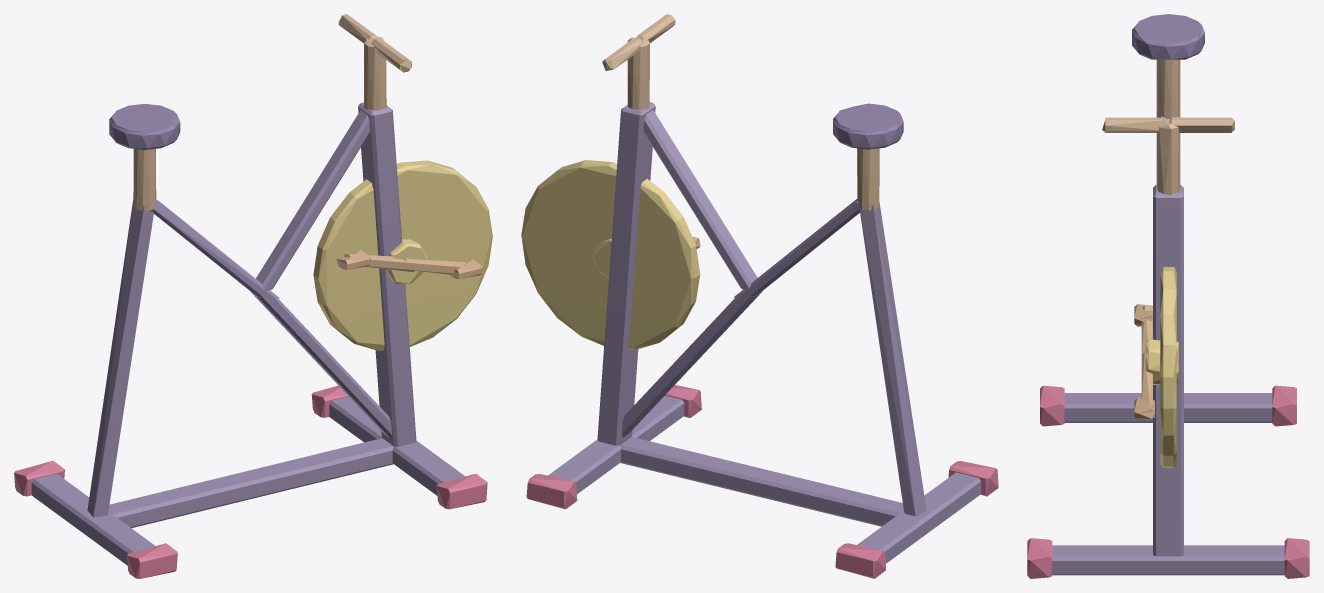
Rendered from gym-bike.glb.
3 renders of one model, left to right at view 1: azimuth 30°, elevation 25°; view 2: azimuth 150°, elevation 25°; view 3: azimuth 270°, elevation 25°, orthographic. The views are drawn at different scales.
Visible parts, largest first — view 1: spin_bike; view 2: spin_bike; view 3: spin_bike.
Boxes of the visible parts, box(x1,y1,x2,y2) form: spin_bike: box(14, 14, 492, 578); spin_bike: box(521, 14, 998, 578); spin_bike: box(1027, 14, 1309, 578).
Size of the model in its own units: 1.19 by 1.17 by 0.6801.
1 material, 1 textured.
